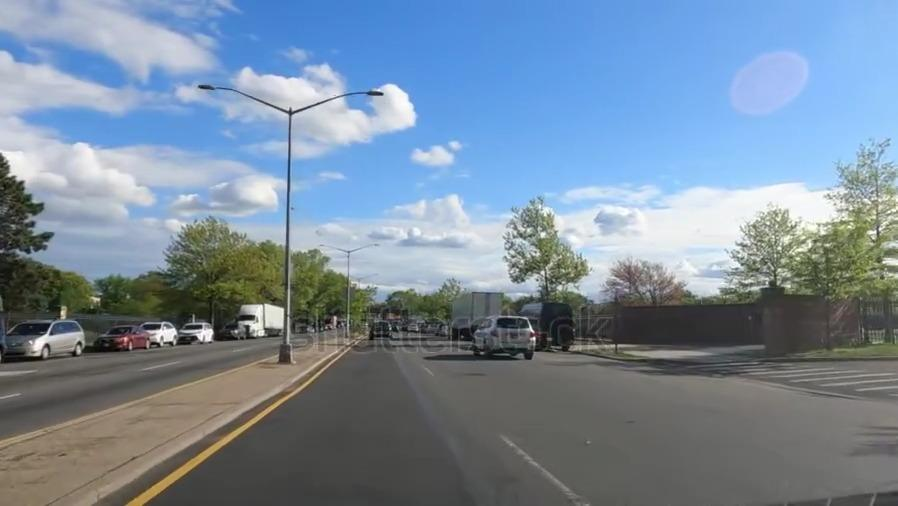car: (5, 319, 84, 360), (468, 316, 537, 359), (93, 325, 148, 351), (144, 320, 177, 346), (181, 323, 212, 342), (367, 319, 393, 340), (218, 322, 244, 339)
pedestrian: (661, 355, 898, 397)
truck: (449, 295, 507, 337), (238, 303, 284, 337)
van: (520, 302, 575, 348)
